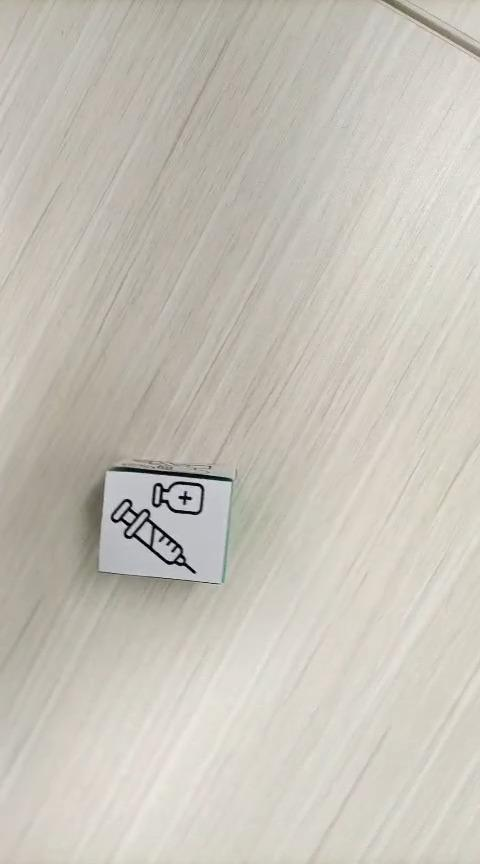antiseptic cream: (96, 468, 234, 583)
